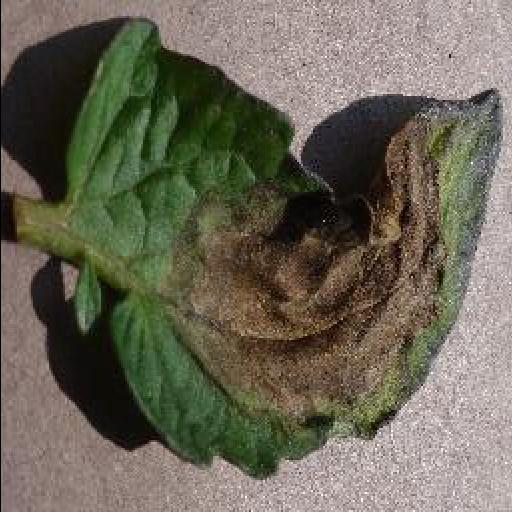disease_tomato: (64, 18, 510, 478)
